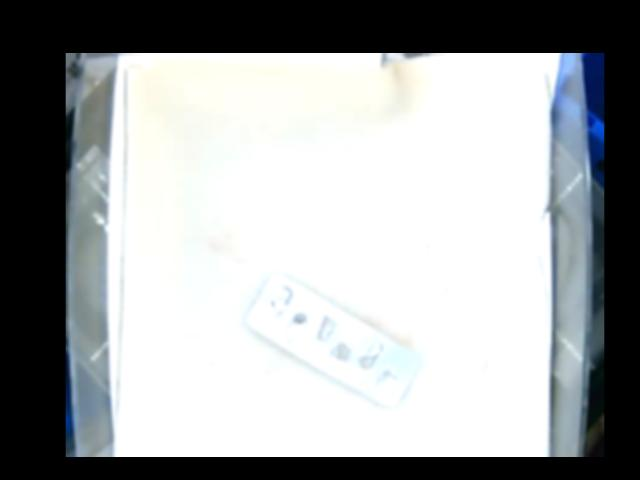Medicine: (249, 270, 421, 405)
